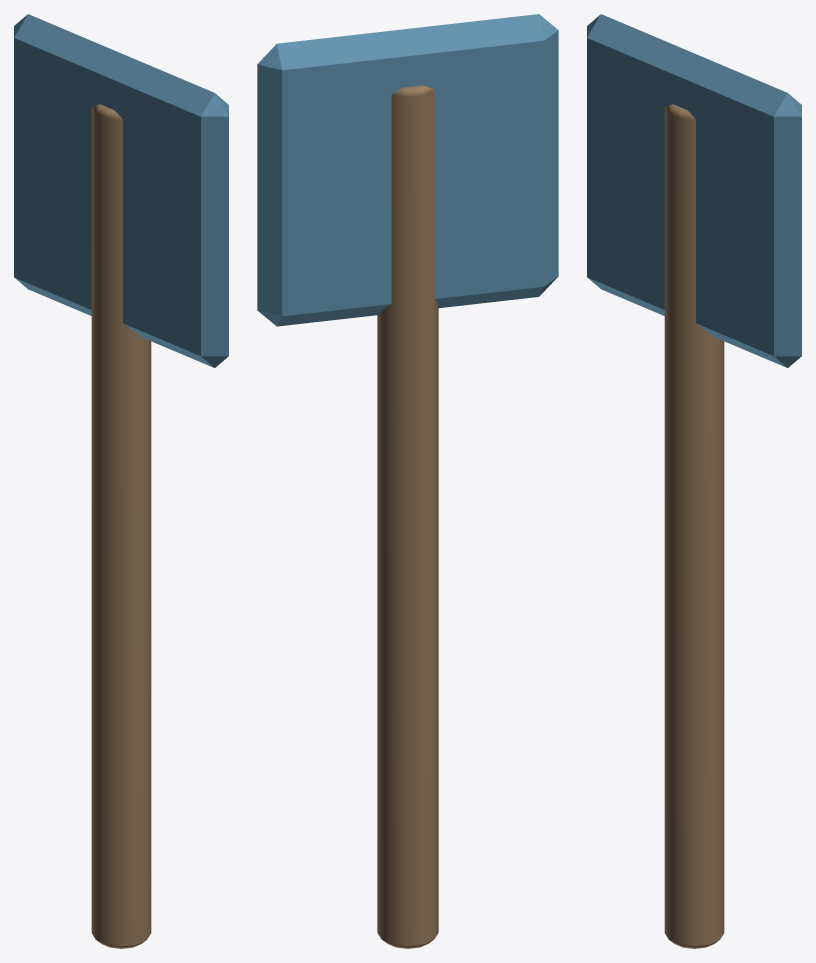
Rendered from sign_ped_crossing_lod2_v2.glb.
3 views of the same model, side by side, from view 1: azimuth 90°, elevation 25°; view 2: azimuth 150°, elevation 25°; view 3: azimuth 270°, elevation 25° (orthographic). The views are drawn at different scales.
Parts seen in each view (by area): view 1: LOD2_SIGN_PED_CROSSING_Plate, LOD2_SIGN_PED_CROSSING_Pole; view 2: LOD2_SIGN_PED_CROSSING_Plate, LOD2_SIGN_PED_CROSSING_Pole; view 3: LOD2_SIGN_PED_CROSSING_Plate, LOD2_SIGN_PED_CROSSING_Pole.
Boxes of the visible parts, bbox=[...] form: LOD2_SIGN_PED_CROSSING_Plate: bbox=[14, 14, 228, 367]; LOD2_SIGN_PED_CROSSING_Pole: bbox=[91, 104, 151, 948]; LOD2_SIGN_PED_CROSSING_Plate: bbox=[257, 14, 558, 326]; LOD2_SIGN_PED_CROSSING_Pole: bbox=[377, 85, 438, 948]; LOD2_SIGN_PED_CROSSING_Plate: bbox=[587, 14, 801, 367]; LOD2_SIGN_PED_CROSSING_Pole: bbox=[664, 104, 724, 948].
Size of what is drawn, in the model's own units: 0.6505 by 2.96 by 0.6505.
